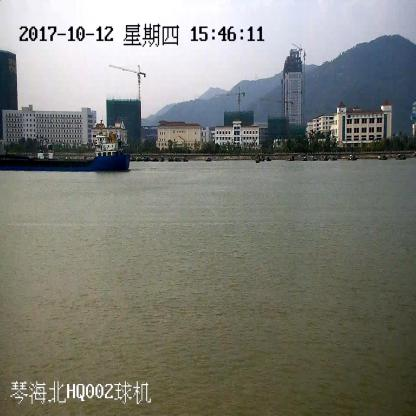Bulk Carrier: (0, 132, 131, 171)
